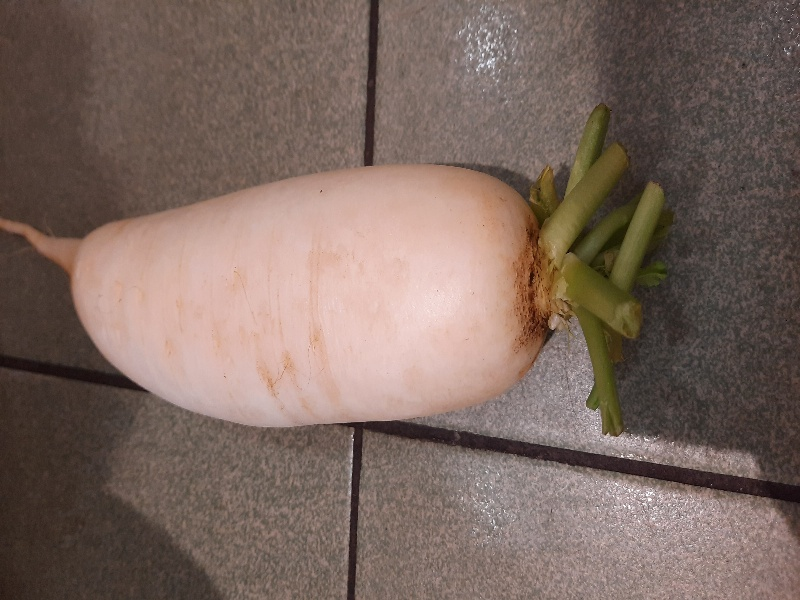vege: (12, 133, 687, 455)
